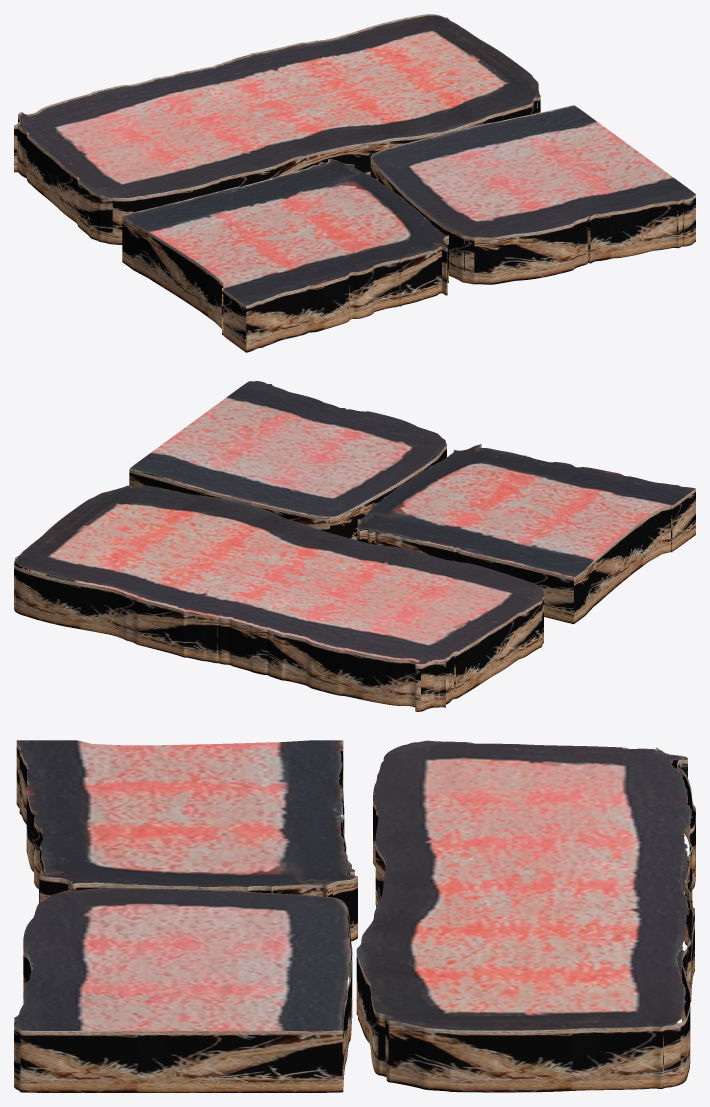
File: Ladrillo.fbx
The picture shows the model from 3 angles, top to bottom: view 1: azimuth 30°, elevation 25°; view 2: azimuth 150°, elevation 25°; view 3: azimuth 270°, elevation 25°; orthographic projection. The views are drawn at different scales.
Visible parts, largest first — view 1: Ladrillo; view 2: Ladrillo; view 3: Ladrillo.
Boxes of the visible parts, x1=… form: Ladrillo: x1=14, y1=14, x2=695, y2=352; Ladrillo: x1=14, y1=381, x2=695, y2=711; Ladrillo: x1=14, y1=740, x2=695, y2=1092.
Size of the model in its own units: 1.01 by 0.1 by 0.9978.
